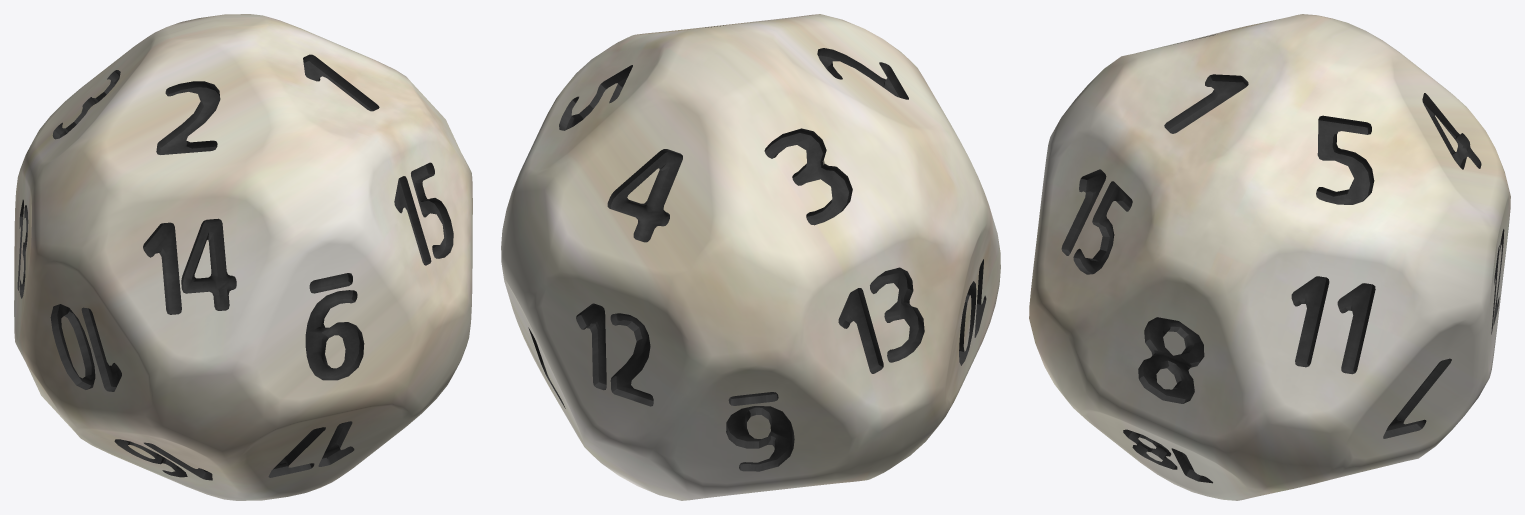
The model's file is Dice020.fbx.
3 renders of one model, left to right at view 1: azimuth 30°, elevation 25°; view 2: azimuth 150°, elevation 25°; view 3: azimuth 270°, elevation 25°, orthographic. The views are drawn at different scales.
Parts seen in each view (by area): view 1: Dice020; view 2: Dice020; view 3: Dice020.
Boxes of the visible parts, x1=… form: Dice020: x1=14, y1=14, x2=472, y2=500; Dice020: x1=501, y1=14, x2=1000, y2=500; Dice020: x1=1029, y1=14, x2=1510, y2=500.
Bounding box in the file's own units: 3.19 × 3.29 × 3.15.
Materials: 1 (1 with a texture image).
